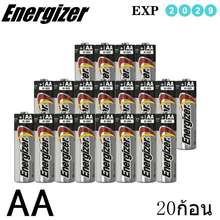Battery: (54, 109, 76, 186), (95, 110, 117, 185), (35, 110, 56, 184), (157, 111, 178, 184), (13, 111, 34, 184), (76, 109, 96, 185), (178, 77, 198, 151), (116, 112, 136, 184), (137, 112, 156, 184), (95, 41, 118, 81), (74, 41, 97, 81), (135, 42, 157, 81), (115, 42, 137, 81), (33, 77, 55, 114), (156, 76, 178, 112), (55, 78, 77, 113), (136, 77, 156, 113), (117, 77, 137, 113), (97, 78, 117, 114), (76, 78, 96, 114)
